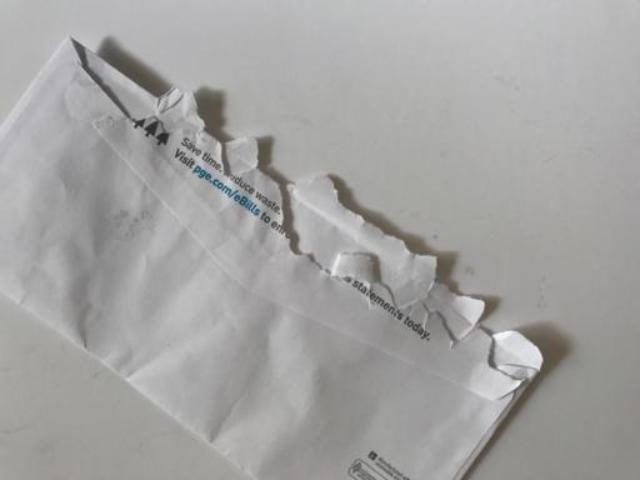cardboard paper: (0, 38, 540, 476)
